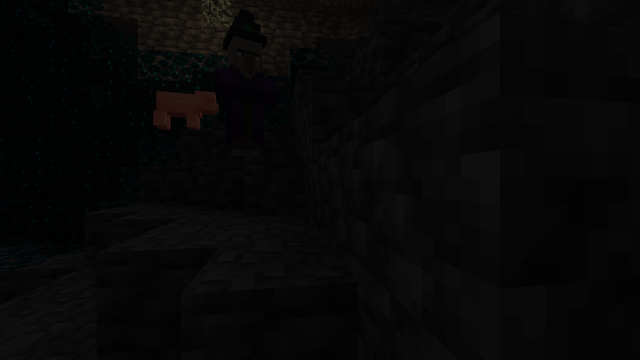cochons: (154, 88, 202, 130)
sorcieres: (222, 30, 263, 159)
